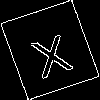X: (25, 24, 75, 80)
